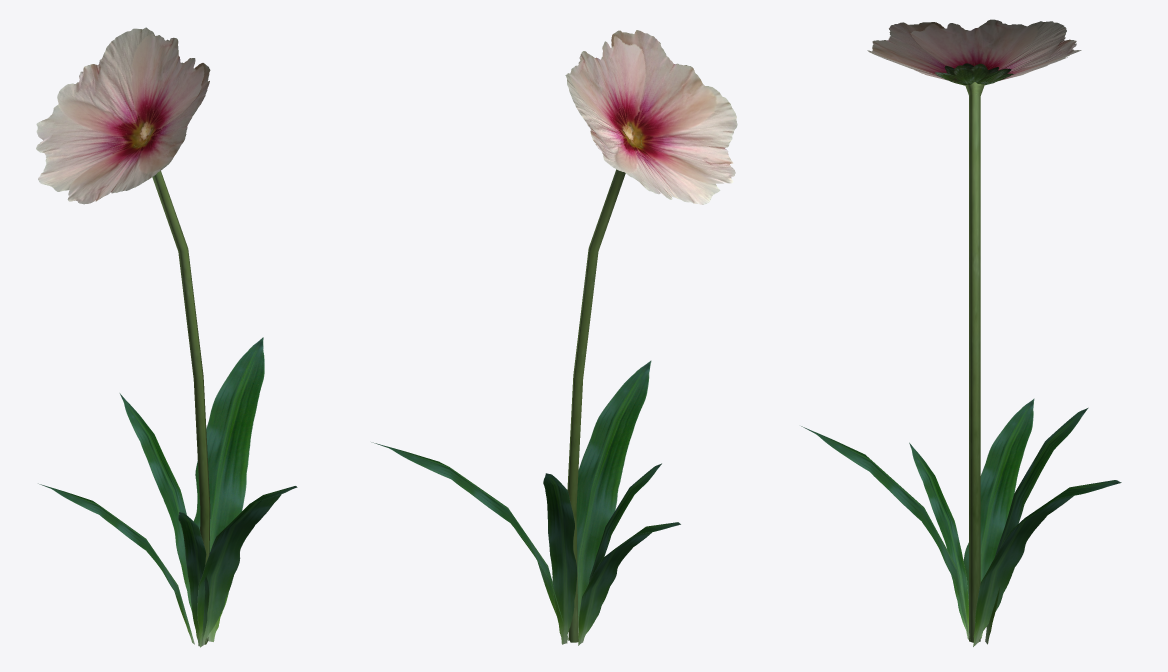
The model's file is Flower_01_B.FBX.
3 views of the same model, side by side, from view 1: azimuth 30°, elevation 25°; view 2: azimuth 150°, elevation 25°; view 3: azimuth 270°, elevation 25° (orthographic). The views are drawn at different scales.
Visible parts, largest first — view 1: Flower_01_B; view 2: Flower_01_B; view 3: Flower_01_B.
Boxes of the visible parts, box(x1,y1,x2,y2) form: Flower_01_B: box(36, 27, 297, 647); Flower_01_B: box(371, 30, 737, 645); Flower_01_B: box(801, 19, 1121, 646).
Bounding box in the file's own units: 0.6061 × 1.16 × 0.6094.
